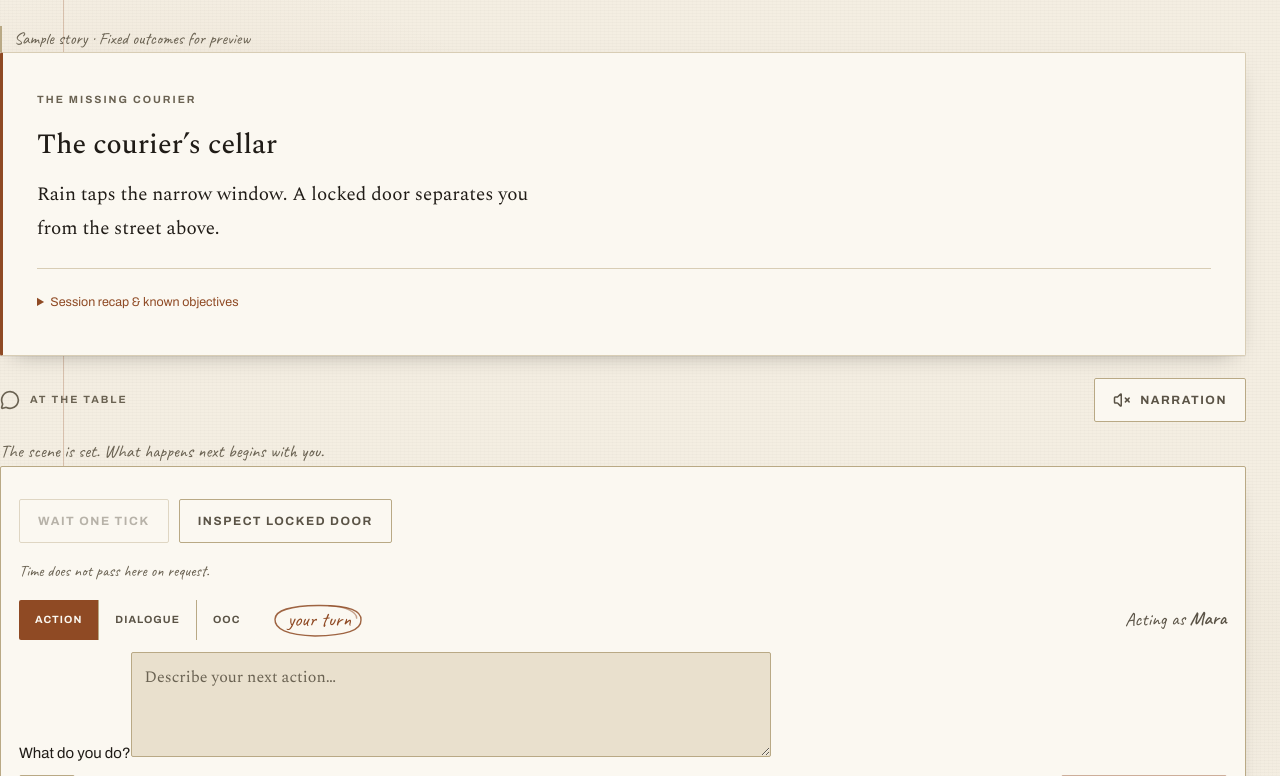
Test case: keeps narration playback out of the composer, beside the transcript
The width and height of the screenshot is (1280, 776).
expect the button "Mute narration" is not shown: met
expect the button "Interrupt narration" is not shown: met
Click the button "Narration". click: (1170, 400)
box: [1094,378,1246,422]
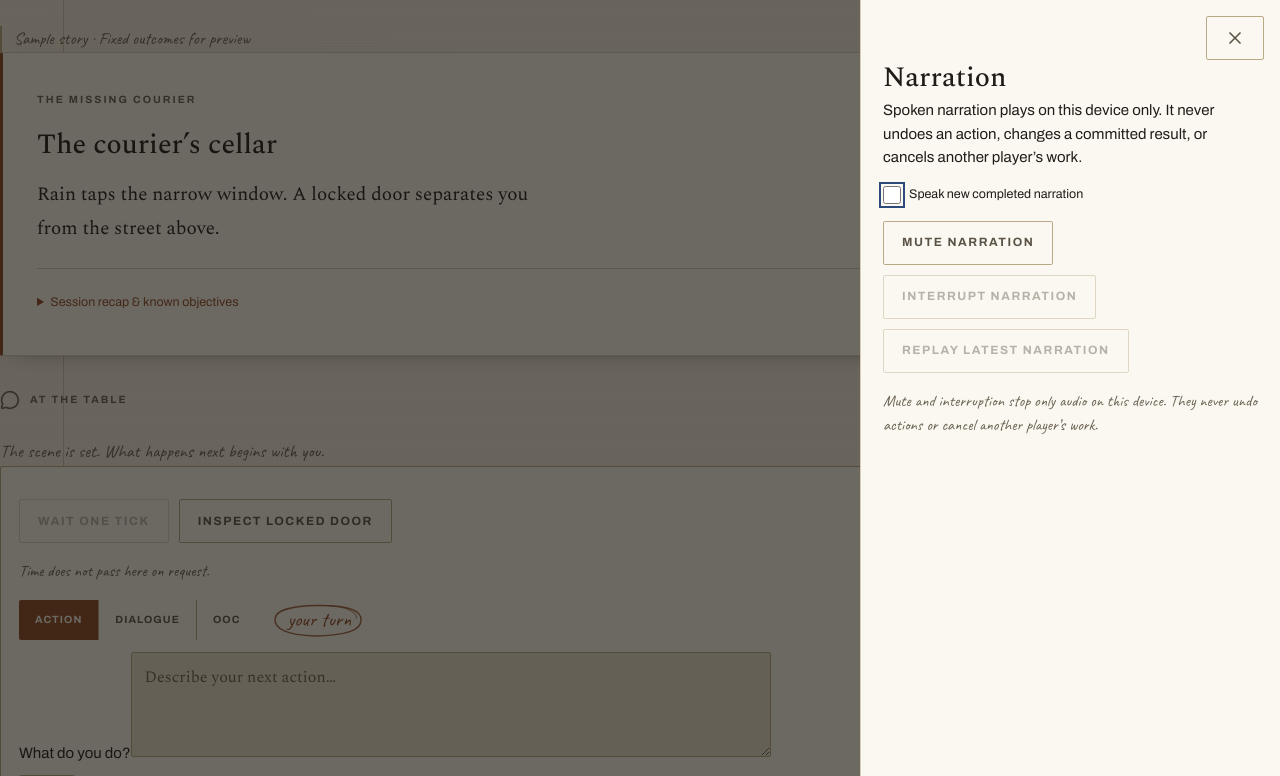
expect the checkbox labelled "Speak new completed narration" is shown: met, box [883,186,901,204]
expect the button "Mute narration" is shown: met, box [883,220,1053,264]
expect the button "Interrupt narration" is shown: met, box [883,274,1096,318]
